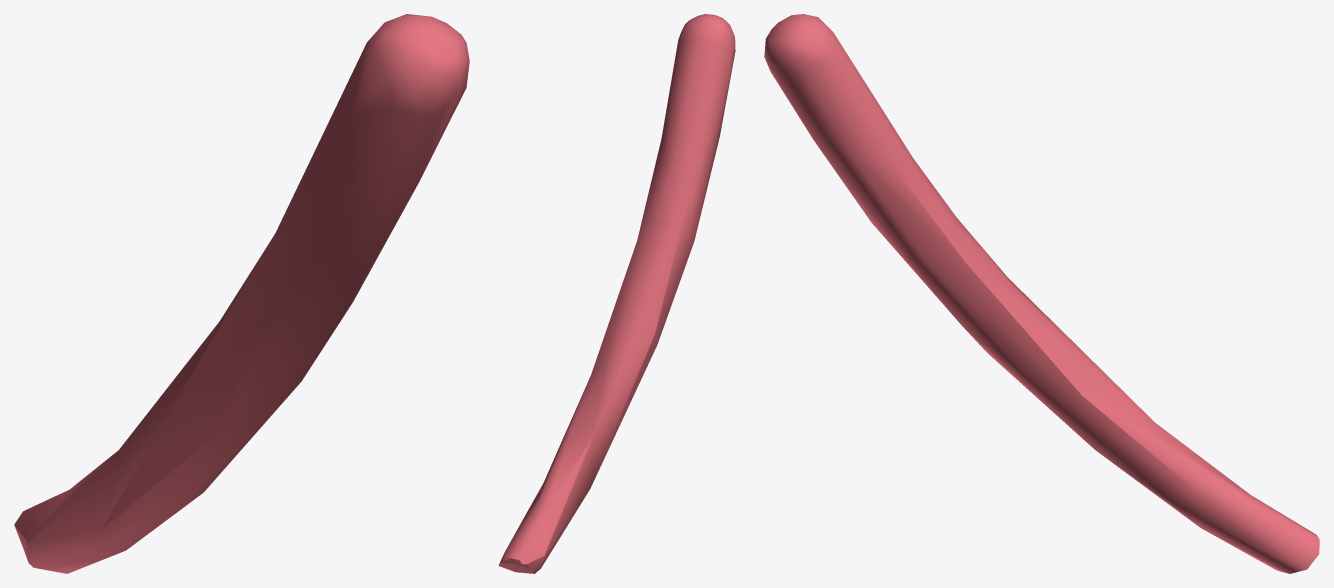
Rendered from fma9428_fj3045.glb.
3 renders of one model, left to right at view 1: azimuth 30°, elevation 25°; view 2: azimuth 150°, elevation 25°; view 3: azimuth 270°, elevation 25°, orthographic. The views are drawn at different scales.
Parts seen in each view (by area): view 1: FMA9428_FJ3045; view 2: FMA9428_FJ3045; view 3: FMA9428_FJ3045.
Boxes of the visible parts, left/top/right/bottom form: FMA9428_FJ3045: left=14, top=14, right=469, bottom=573; FMA9428_FJ3045: left=498, top=14, right=735, bottom=573; FMA9428_FJ3045: left=764, top=14, right=1319, bottom=573.
Size of the model in its own units: 0.00283 by 0.0194 by 0.0177.
